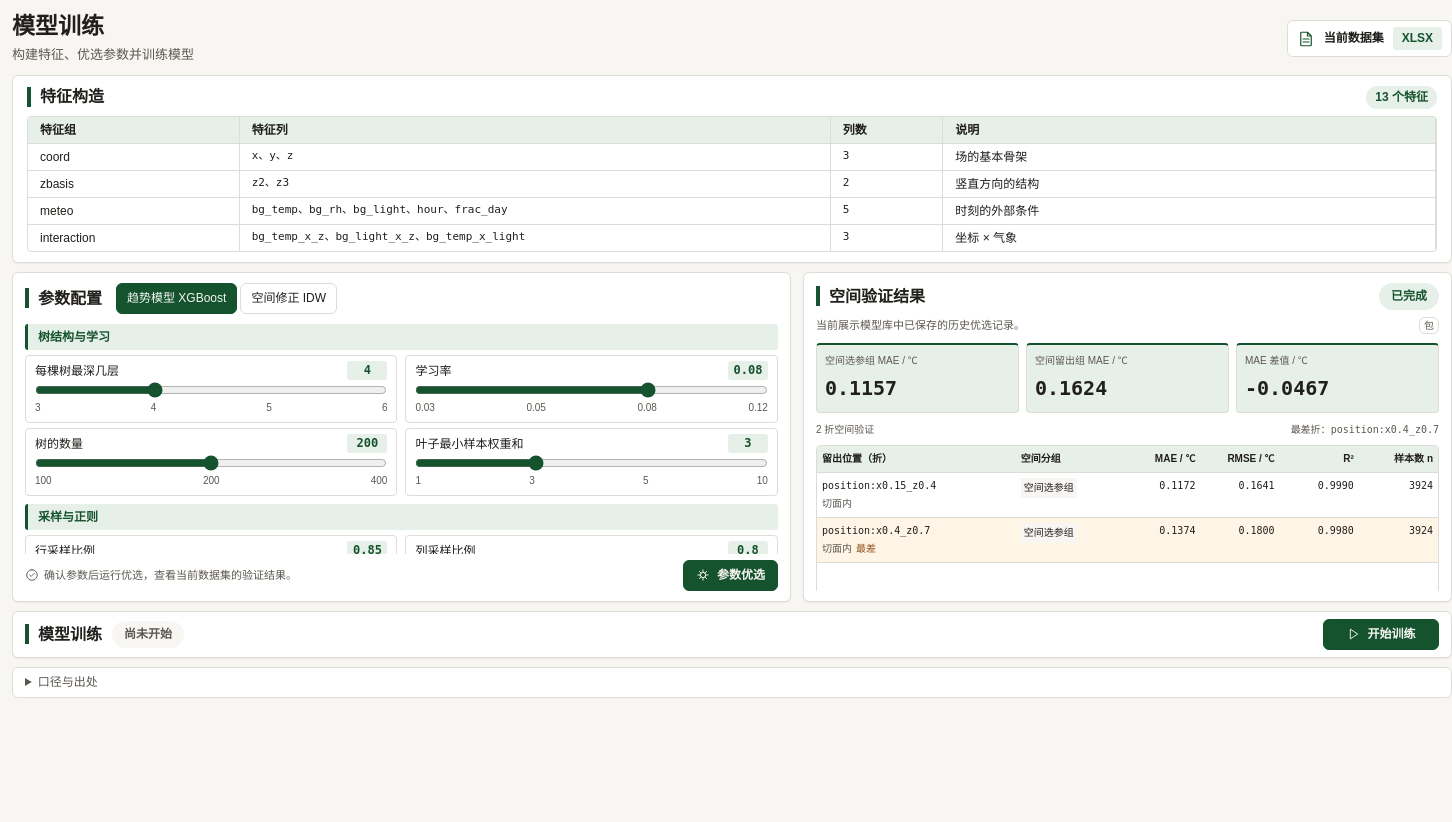
页② 模型训练 › 包换过之后，上一份包算出来的精度整块不显示，并说清为什么
Click the button "开始训练".
click(1381, 634)  # box [1323,619,1439,650]
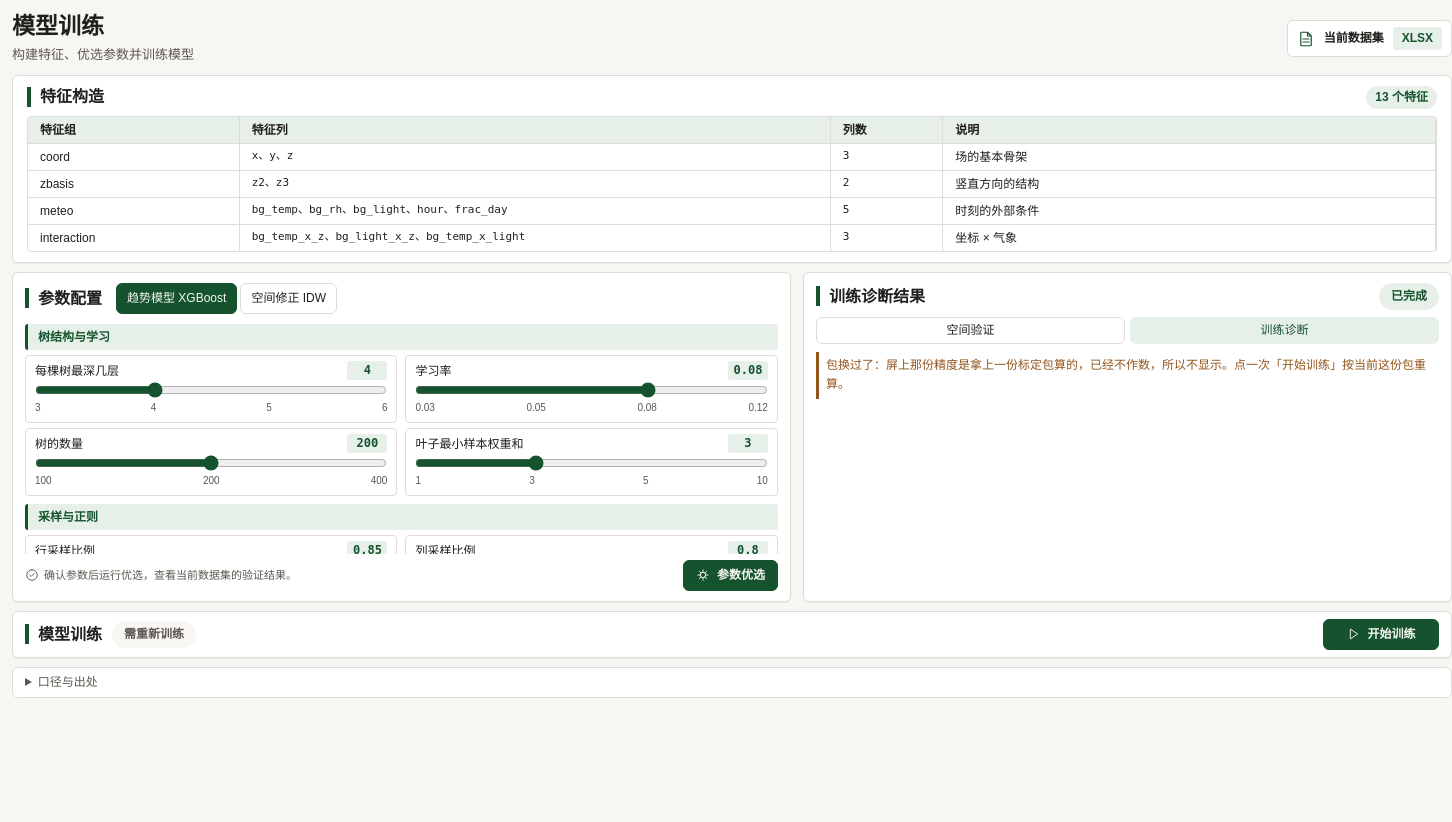
Expected: the text "已经不作数" is shown, [826,358,1426,392]
